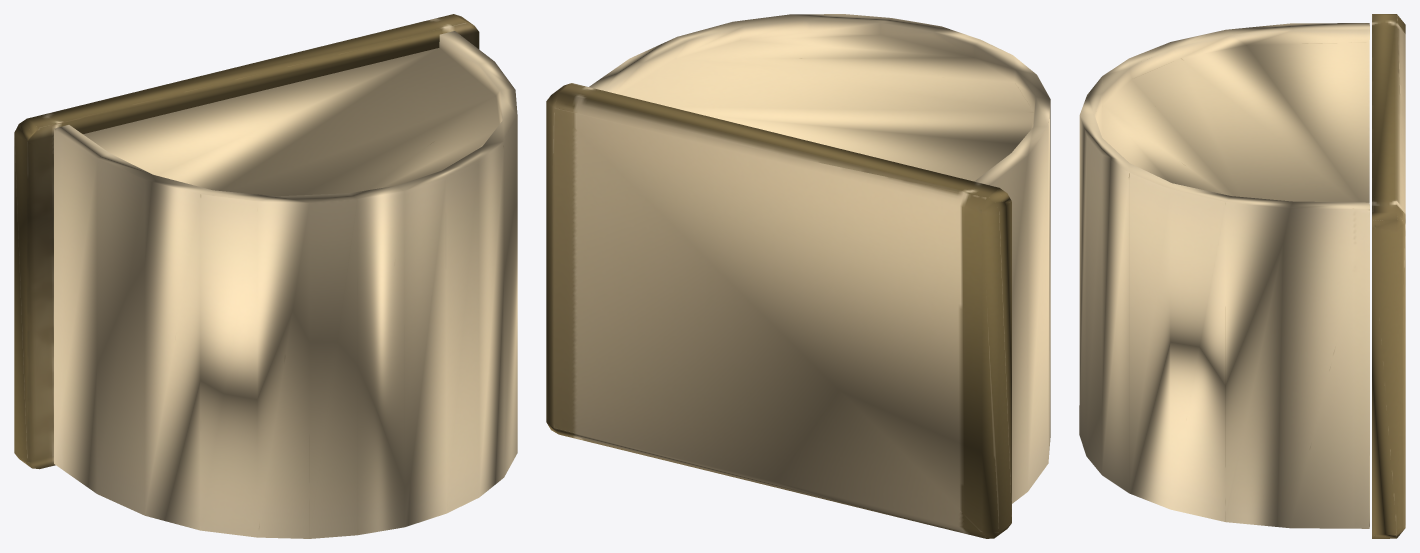
The model's file is wall_sconce.fbx.
The picture shows the model from 3 angles, left to right: view 1: azimuth 30°, elevation 25°; view 2: azimuth 150°, elevation 25°; view 3: azimuth 270°, elevation 25°; orthographic projection. The views are drawn at different scales.
Parts seen in each view (by area): view 1: Mesh_0; view 2: Mesh_0; view 3: Mesh_0.
Part boxes in pixels (x1,y1,x2,y2): Mesh_0: (14, 14, 517, 538); Mesh_0: (546, 14, 1050, 538); Mesh_0: (1079, 14, 1405, 538).
Bounding box in the file's own units: 95.75 × 69.19 × 62.79.
1 material, 1 textured.
